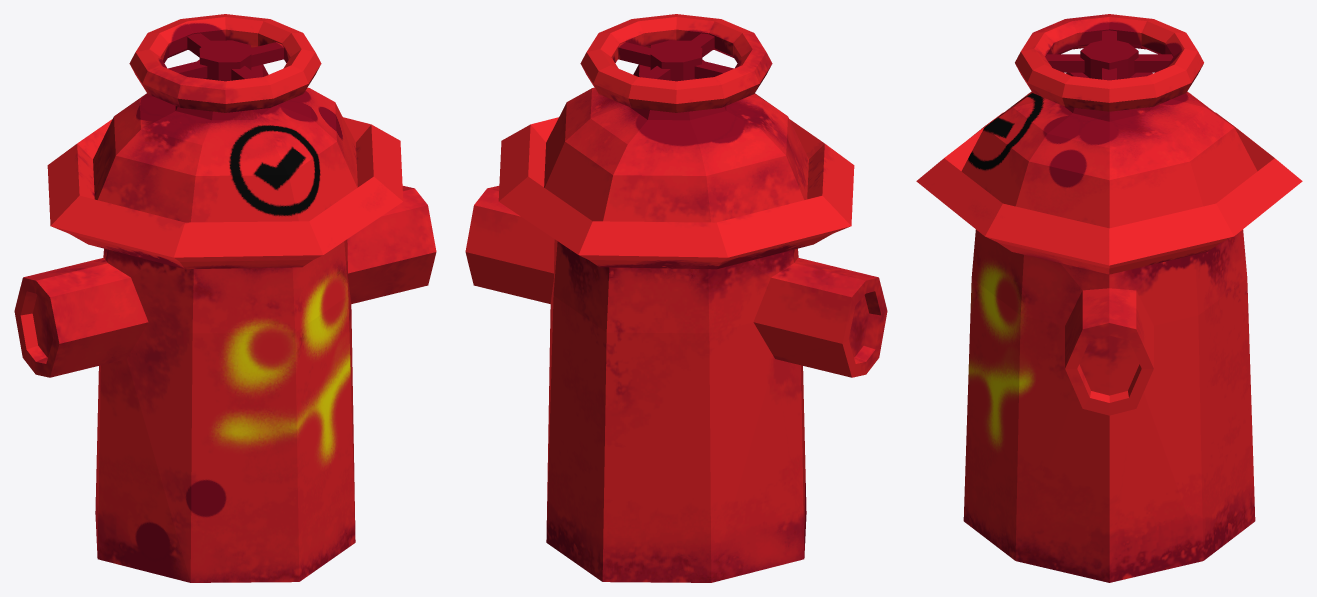
Rendered from Hydrant.fbx.
The picture shows the model from 3 angles, left to right: view 1: azimuth 30°, elevation 25°; view 2: azimuth 150°, elevation 25°; view 3: azimuth 270°, elevation 25°; orthographic projection.
Visible parts, largest first — view 1: node_id3; view 2: node_id3; view 3: node_id3.
Part boxes in pixels (x1,y1,x2,y2): node_id3: (14,14,436,582); node_id3: (465,14,887,582); node_id3: (916,14,1302,582).
Size of the model in its own units: 0.4245 by 0.512 by 0.3795.
Materials: 1 (1 with a texture image).
